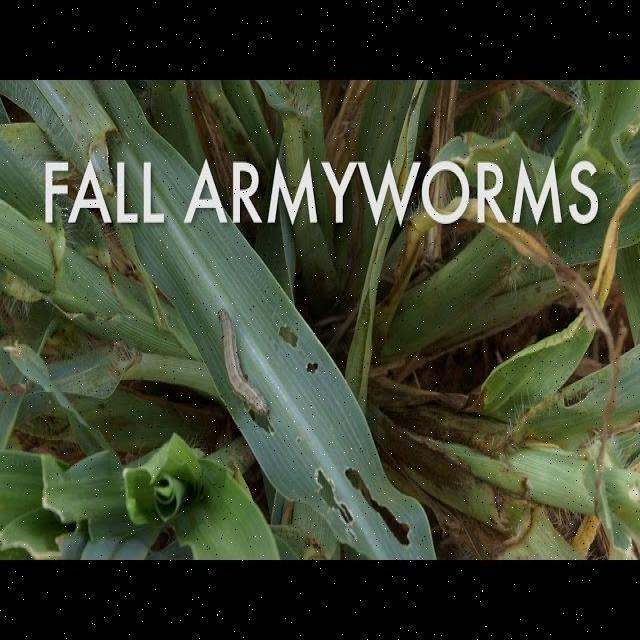army worm: (191, 292, 298, 435)
